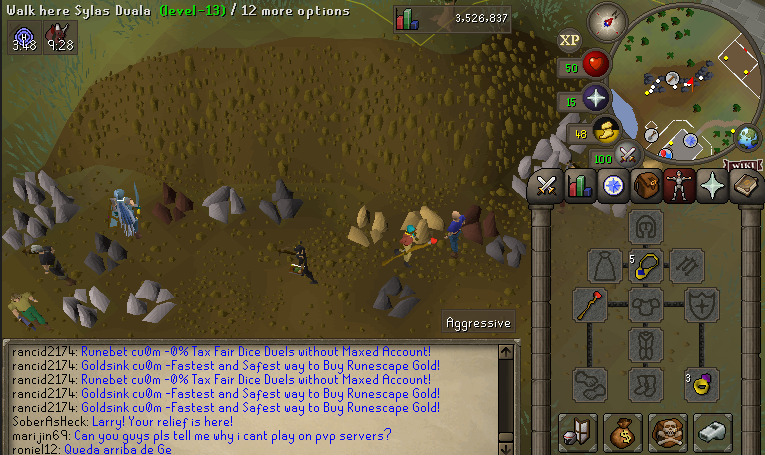depleted: (255, 176, 308, 230), (373, 273, 425, 328), (75, 230, 136, 276), (484, 230, 531, 274)
iron: (147, 177, 201, 230), (456, 203, 503, 250)
